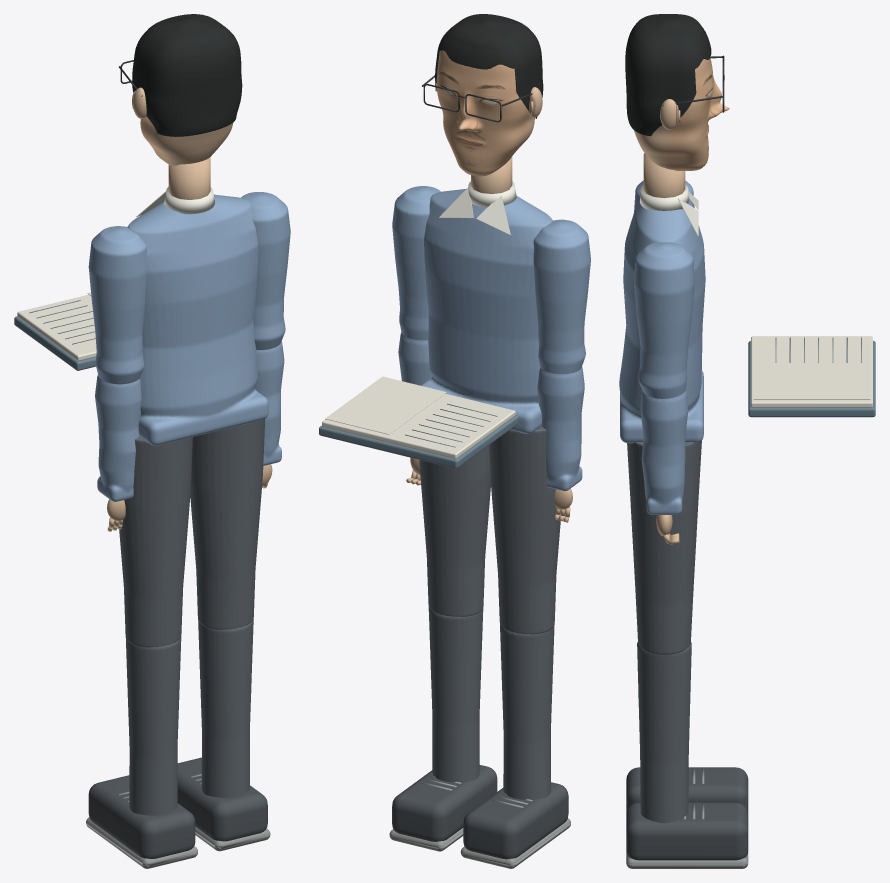
The model's file is tiku_boy1.glb.
3 views of the same model, side by side, from view 1: azimuth 30°, elevation 25°; view 2: azimuth 150°, elevation 25°; view 3: azimuth 270°, elevation 25° (orthographic).
Parts seen in each view (by area): view 1: RibbedHem, TrouserThigh.001, TrouserThigh, FittedBuzzcut, KneeFold, KneeFold.001, Sleeve, Shoe, Sleeve.001, Cuff, Shoe.001, Paper (+7 smaller); view 2: RibbedHem, TrouserThigh, TrouserThigh.001, KneeFold.001, KneeFold, IdentityHead, Sleeve, Paper, FittedBuzzcut, Shoe, Shoe.001, Sleeve.001 (+9 smaller); view 3: TrouserThigh.001, KneeFold.001, RibbedHem, Sleeve.001, FittedBuzzcut, Shoe.001, Paper, Cuff.001, IdentityHead, TurningPage, Shoe, HardCover (+3 smaller).
Boxes of the visible parts, x1=… form: RibbedHem: x1=127, y1=194, x2=268, y2=445; TrouserThigh.001: x1=190, y1=419, x2=264, y2=629; TrouserThigh: x1=119, y1=436, x2=192, y2=647; FittedBuzzcut: x1=132, y1=14, x2=242, y2=136; KneeFold: x1=126, y1=637, x2=181, y2=815; KneeFold.001: x1=198, y1=619, x2=253, y2=797; Sleeve: x1=88, y1=226, x2=146, y2=384; Shoe: x1=88, y1=775, x2=195, y2=858; Sleeve.001: x1=241, y1=192, x2=290, y2=349; Cuff: x1=95, y1=375, x2=141, y2=501; Shoe.001: x1=177, y1=757, x2=267, y2=841; Paper: x1=17, y1=294, x2=96, y2=360; RibbedHem: x1=421, y1=188, x2=552, y2=433; TrouserThigh: x1=489, y1=426, x2=560, y2=634; TrouserThigh.001: x1=419, y1=445, x2=490, y2=616; KneeFold.001: x1=428, y1=607, x2=483, y2=782; KneeFold: x1=500, y1=624, x2=554, y2=799; IdentityHead: x1=436, y1=50, x2=534, y2=176; Sleeve: x1=533, y1=219, x2=590, y2=374; Paper: x1=322, y1=393, x2=515, y2=458; FittedBuzzcut: x1=435, y1=14, x2=543, y2=118; Shoe: x1=463, y1=782, x2=568, y2=859; Shoe.001: x1=392, y1=765, x2=497, y2=841; Sleeve.001: x1=392, y1=186, x2=440, y2=340; TrouserThigh.001: x1=627, y1=441, x2=701, y2=654; KneeFold.001: x1=637, y1=642, x2=691, y2=823; RibbedHem: x1=619, y1=197, x2=705, y2=443; Sleeve.001: x1=634, y1=242, x2=694, y2=398; FittedBuzzcut: x1=625, y1=14, x2=711, y2=136; Shoe.001: x1=626, y1=802, x2=748, y2=860; Paper: x1=751, y1=336, x2=872, y2=407; Cuff.001: x1=640, y1=389, x2=688, y2=514; IdentityHead: x1=634, y1=57, x2=729, y2=170; TurningPage: x1=753, y1=367, x2=870, y2=399; Shoe: x1=626, y1=767, x2=748, y2=813; HardCover: x1=748, y1=337, x2=875, y2=417.
Bounding box in the file's own units: 0.4392 × 1.78 × 0.5037.
14 materials, 1 textured.
